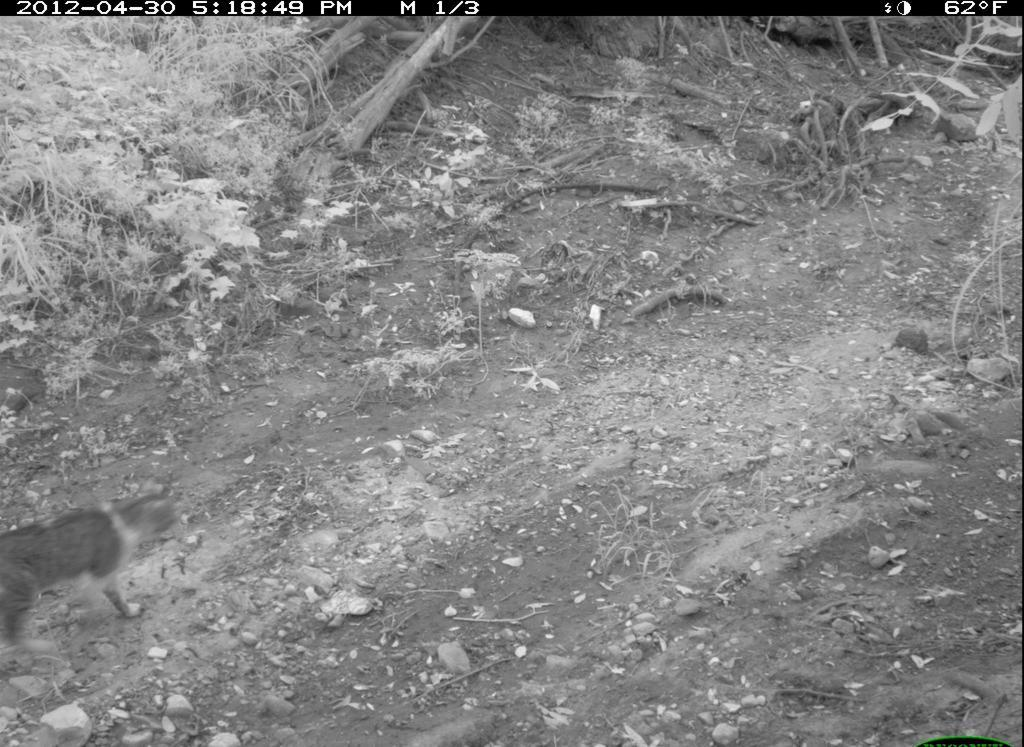cat: (2, 479, 188, 657)
